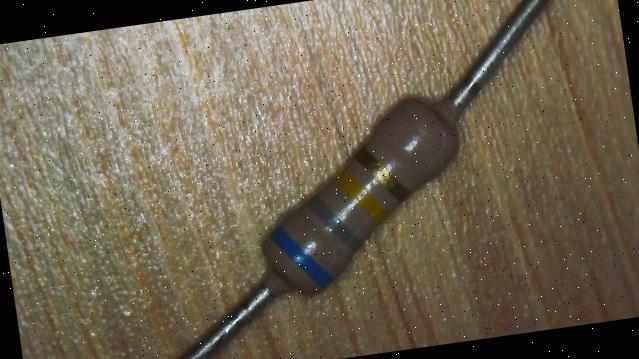blue: (267, 218, 333, 295)
gold: (354, 141, 408, 205)
grey: (306, 188, 361, 256)
resistor: (216, 73, 482, 336)
yellow: (331, 163, 389, 227)
